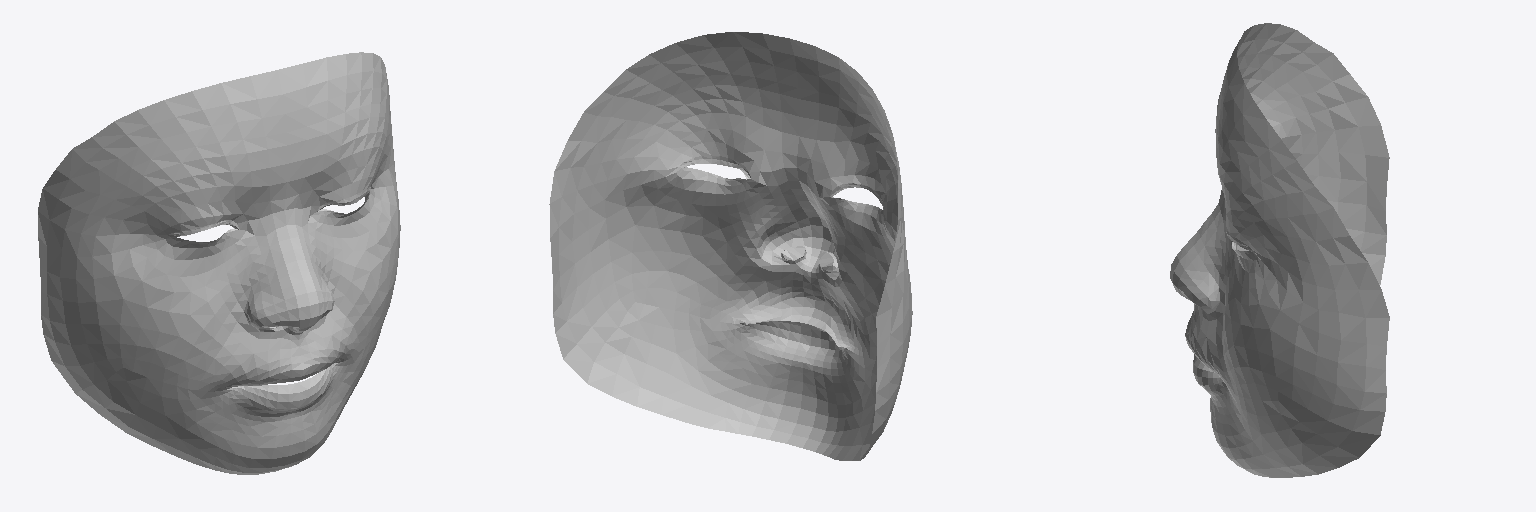
Rendered from eyeLookDown_L.obj.
3 views of the same model, side by side, from view 1: azimuth 30°, elevation 25°; view 2: azimuth 150°, elevation 25°; view 3: azimuth 270°, elevation 25° (orthographic).
Parts seen in each view (by area): view 1: default; view 2: default; view 3: default.
Part boxes in pixels (bbox=[...]): default: bbox=[38, 52, 400, 474]; default: bbox=[549, 32, 912, 460]; default: bbox=[1170, 23, 1389, 477].
Size of the model in its own units: 0.1624 by 0.1851 by 0.0913.